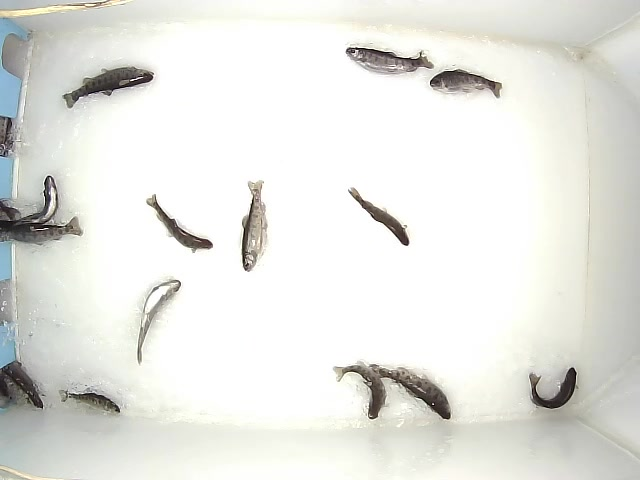fish: (370, 364, 451, 420), (62, 66, 154, 109), (146, 194, 213, 253), (137, 280, 181, 364), (348, 187, 410, 246), (7, 175, 58, 232), (333, 365, 386, 419), (1, 216, 83, 246), (242, 180, 268, 272), (346, 47, 434, 74), (430, 69, 502, 99), (1, 360, 44, 409), (529, 367, 579, 409), (58, 389, 120, 414)
